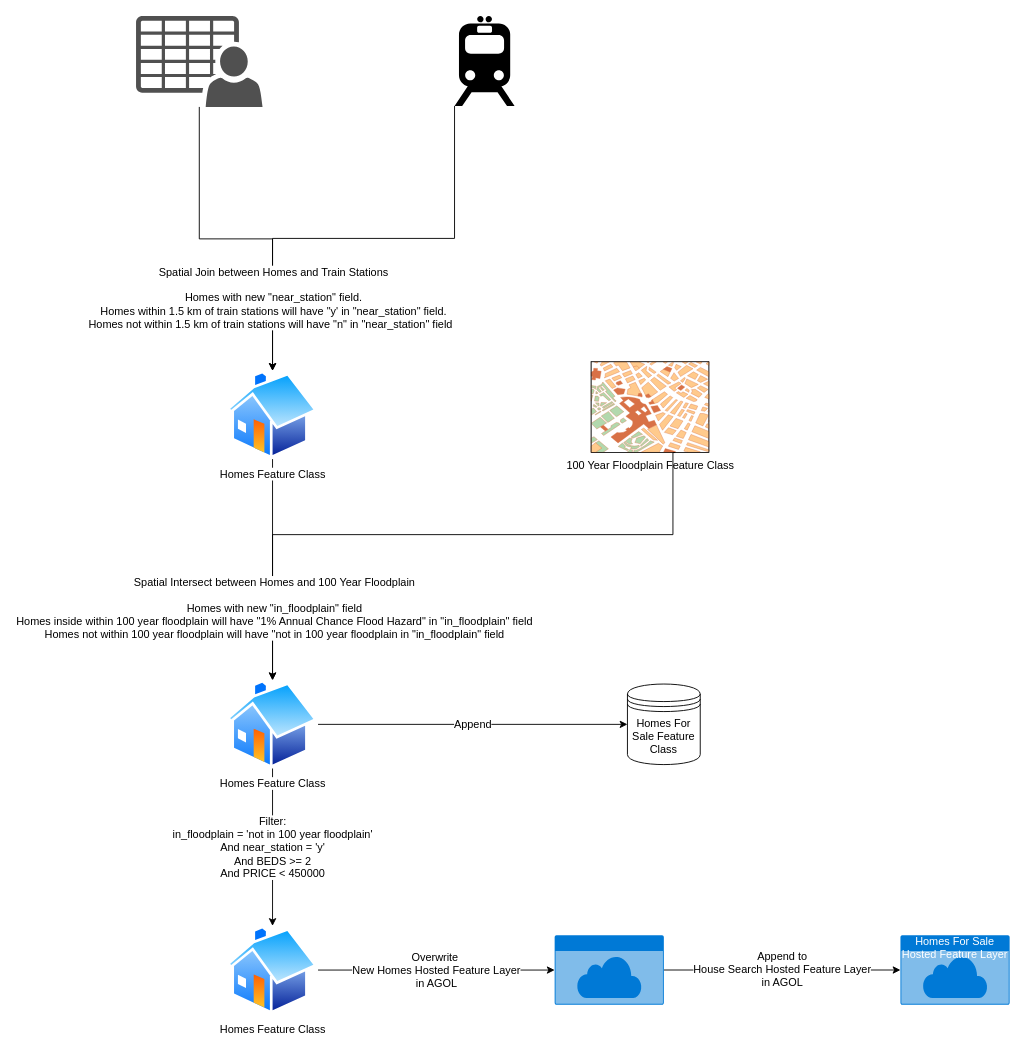
The diagram is 1025 pixels wide and 1051 high, and some of its shapes have lost their labels. The shapes that lost their labels are listed below. From the top down, each one's box as (x1, y1, x2, y2) in pixels, then its label:
(136, 15, 262, 106): CSV New Homes Results From Redfin
(454, 15, 514, 106): NJ Trains Feature Class
(554, 935, 663, 1004): New Homes Hosted Feature Layer
